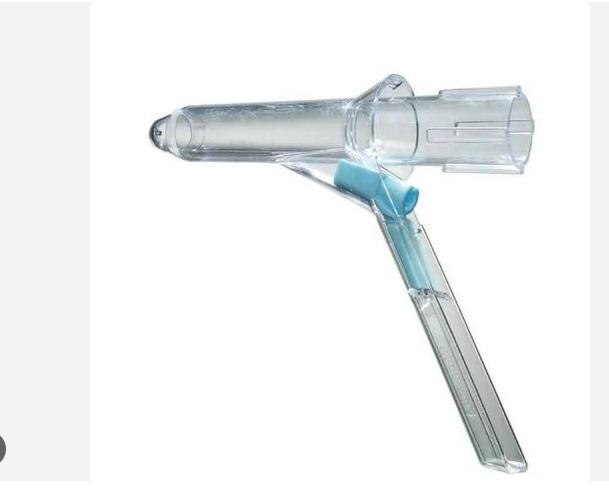Protoscope: (136, 73, 547, 475)
